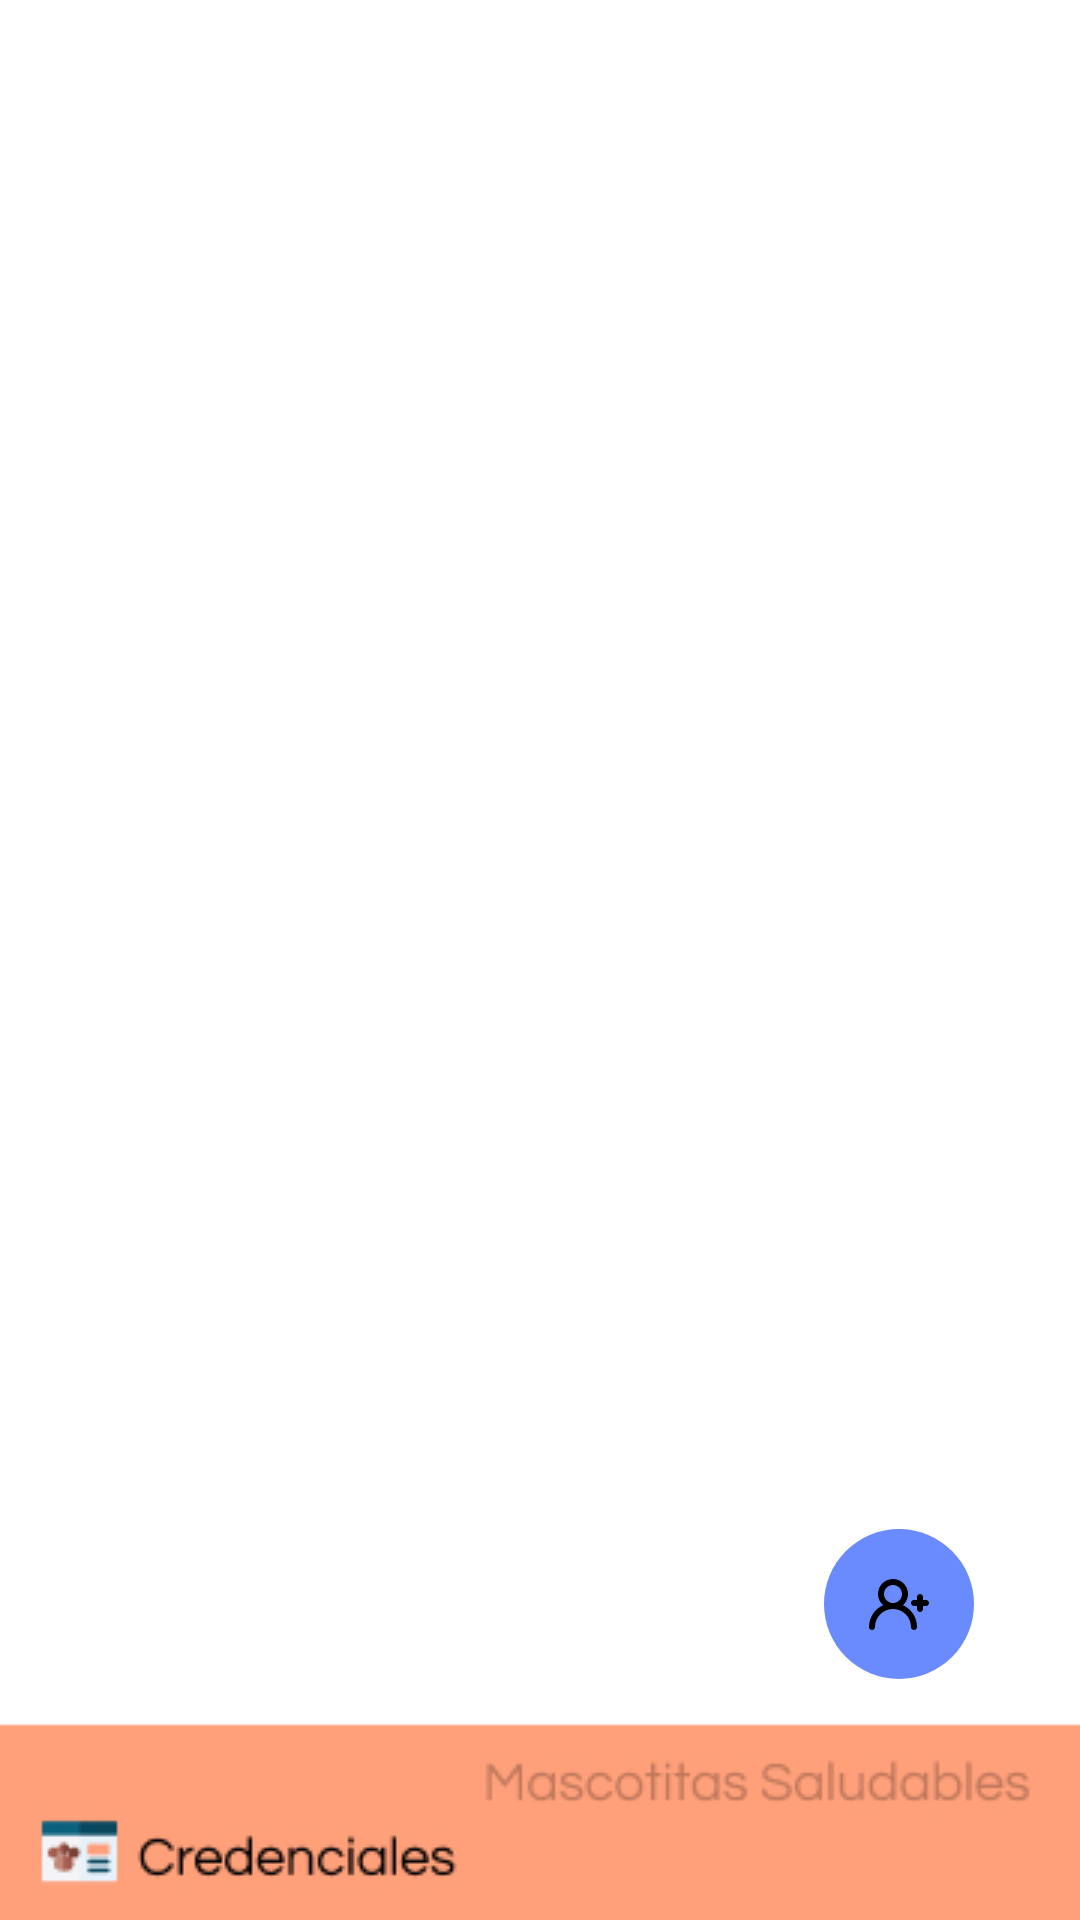

Icon bounding boxes for this 1080px x 1920px phone screenshot, format (x1, y1, x2, y2):
aniadir: (824, 1529, 974, 1679)
